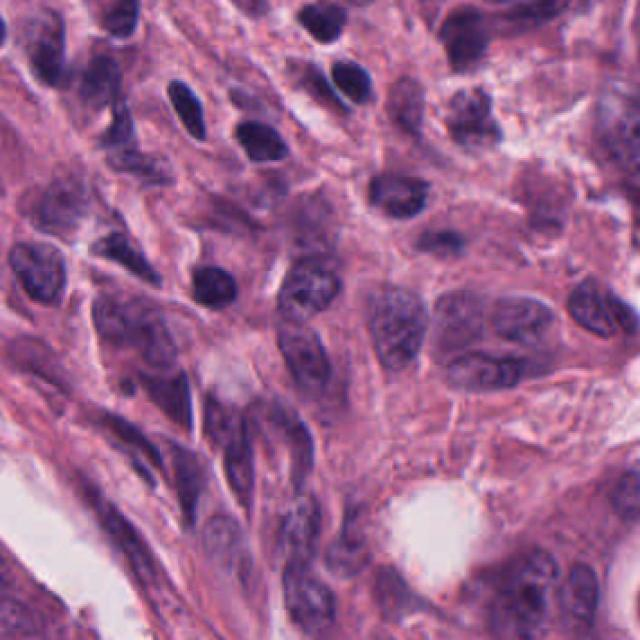fibroblast: (70, 459, 192, 629), (86, 267, 176, 367), (77, 397, 167, 488), (275, 484, 334, 621), (469, 548, 554, 640), (379, 559, 460, 631), (363, 279, 426, 369), (79, 53, 138, 147), (0, 329, 68, 407), (568, 269, 640, 341), (273, 250, 340, 322), (192, 181, 264, 247), (268, 392, 313, 497), (426, 288, 484, 369), (280, 177, 338, 258), (160, 429, 205, 529), (442, 352, 559, 390), (275, 322, 329, 397), (88, 230, 160, 286), (322, 488, 367, 576), (7, 239, 67, 305), (284, 55, 352, 111), (365, 162, 428, 218), (444, 81, 498, 143), (554, 563, 595, 640), (108, 145, 176, 186), (36, 181, 86, 232), (93, 183, 138, 239), (162, 77, 203, 136), (388, 73, 424, 139), (500, 301, 550, 348), (25, 8, 61, 72), (178, 211, 237, 235), (532, 194, 563, 232), (421, 230, 462, 258)
lymphocyte: (433, 2, 491, 64), (187, 260, 232, 307), (232, 120, 286, 158), (331, 55, 372, 102)
